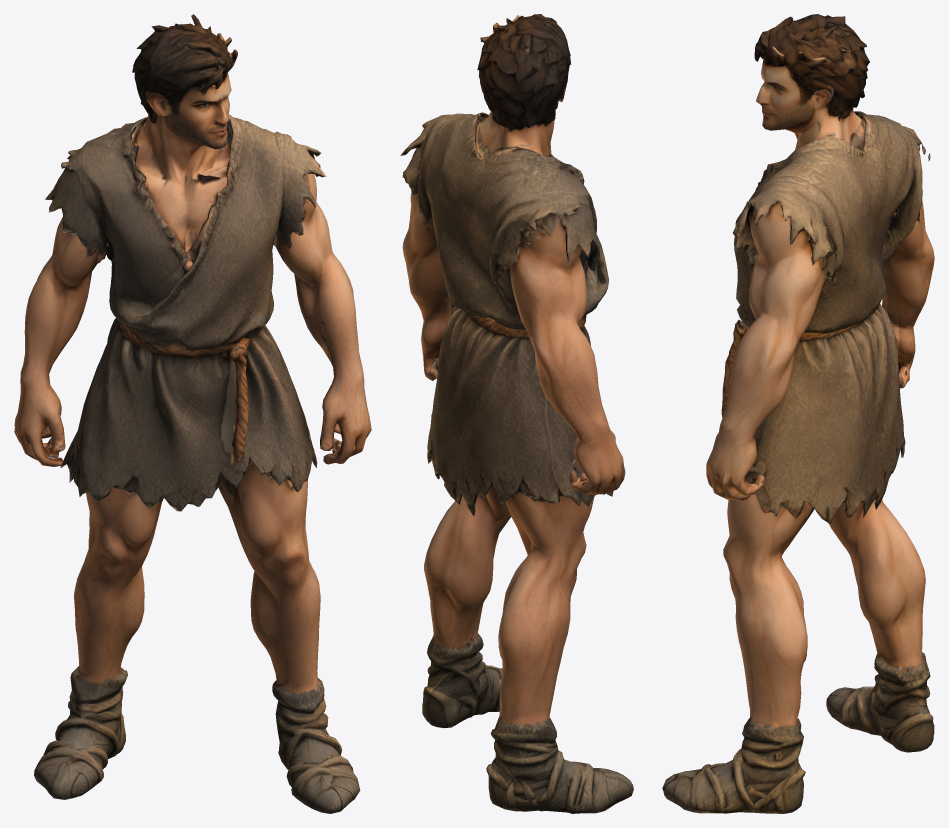
File: Player.fbx
3 views of the same model, side by side, from view 1: azimuth 30°, elevation 25°; view 2: azimuth 150°, elevation 25°; view 3: azimuth 270°, elevation 25° (orthographic). The views are drawn at different scales.
Parts seen in each view (by area): view 1: texture_mapping; view 2: texture_mapping; view 3: texture_mapping.
Boxes of the visible parts, <box> form: texture_mapping: <box>14,14,371,813</box>; texture_mapping: <box>400,14,633,813</box>; texture_mapping: <box>662,14,934,813</box>.
Size of the model in its own units: 0.3826 by 0.3314 by 0.9997.
Materials: 1 (1 with a texture image).
